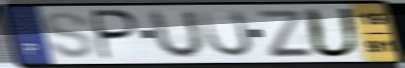P: (91, 8, 142, 62)
S: (43, 10, 97, 60)
U: (302, 7, 363, 60), (149, 9, 207, 61), (198, 8, 256, 59)
Z: (253, 9, 317, 59)
